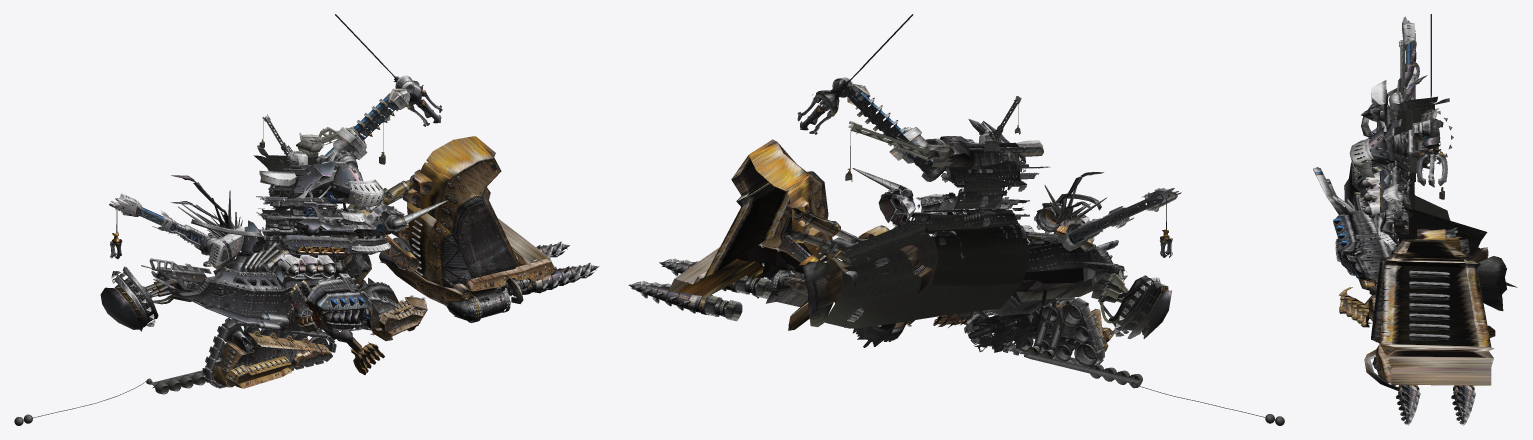
The model's file is mbg003_psid__mbg003_1phase.glb.
3 renders of one model, left to right at view 1: azimuth 30°, elevation 25°; view 2: azimuth 150°, elevation 25°; view 3: azimuth 270°, elevation 25°, orthographic. The views are drawn at different scales.
Visible parts, largest first — view 1: mbg003_psid_mbg003_1phase_var; view 2: mbg003_psid_mbg003_1phase_var; view 3: mbg003_psid_mbg003_1phase_var.
Part boxes in pixels (x1,y1,x2,y2): mbg003_psid_mbg003_1phase_var: (14,14,599,425); mbg003_psid_mbg003_1phase_var: (628,14,1284,425); mbg003_psid_mbg003_1phase_var: (1313,14,1517,425).
Bounding box in the file's own units: 80.77 × 42.26 × 25.55.
Materials: 3 (3 with a texture image).
